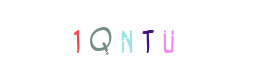1: (37, 0, 117, 80)
N: (87, 0, 167, 80)
Q: (62, 0, 142, 80)
T: (95, 0, 175, 80)
U: (107, 0, 187, 80)
